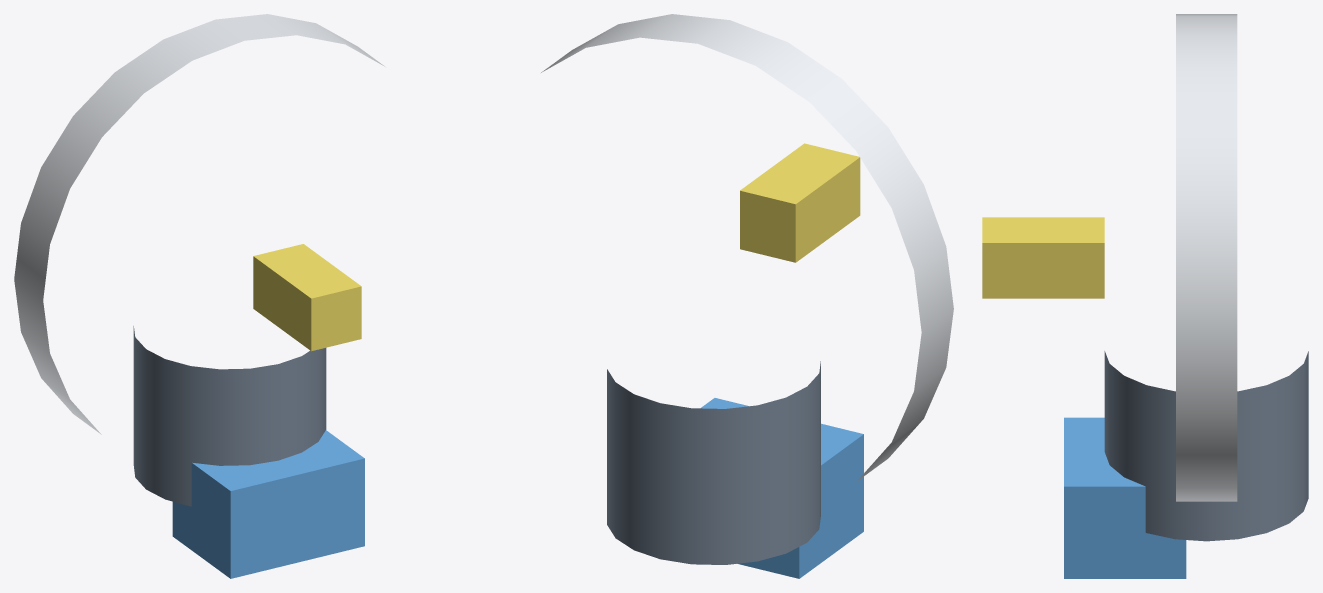
Rendered from radar_range_doppler_antenna.glb.
The picture shows the model from 3 angles, left to right: view 1: azimuth 30°, elevation 25°; view 2: azimuth 150°, elevation 25°; view 3: azimuth 270°, elevation 25°; orthographic projection. The views are drawn at different scales.
Parts seen in each view (by area): view 1: RadarPedestalAzimuthRotator, DopplerTransceiverFrontEnd, ParabolicDishReflectorAntenna, WaveguideFeedHornSubreflector; view 2: RadarPedestalAzimuthRotator, ParabolicDishReflectorAntenna, WaveguideFeedHornSubreflector, DopplerTransceiverFrontEnd; view 3: ParabolicDishReflectorAntenna, RadarPedestalAzimuthRotator, DopplerTransceiverFrontEnd, WaveguideFeedHornSubreflector.
Boxes of the visible parts, x1,y1,x2,y2 form: RadarPedestalAzimuthRotator: (133,326,326,506); DopplerTransceiverFrontEnd: (172,430,364,578); ParabolicDishReflectorAntenna: (14,14,384,434); WaveguideFeedHornSubreflector: (253,244,361,351); RadarPedestalAzimuthRotator: (607,361,820,564); ParabolicDishReflectorAntenna: (541,14,953,481); WaveguideFeedHornSubreflector: (740,143,860,262); DopplerTransceiverFrontEnd: (701,398,863,578); ParabolicDishReflectorAntenna: (1176,14,1237,501); RadarPedestalAzimuthRotator: (1104,351,1308,541); DopplerTransceiverFrontEnd: (1064,417,1186,578); WaveguideFeedHornSubreflector: (982,217,1104,298).
Bounding box in the file's own units: 1.2 × 1.38 × 0.8.
